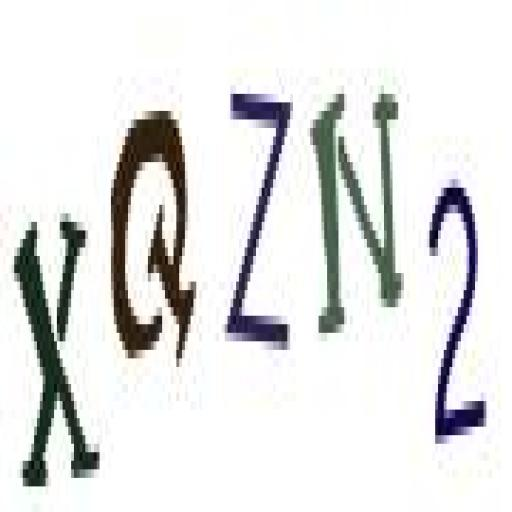2: (425, 158, 500, 463)
N: (313, 68, 412, 359)
Q: (104, 78, 200, 381)
X: (8, 204, 102, 512)
Z: (219, 68, 296, 379)
